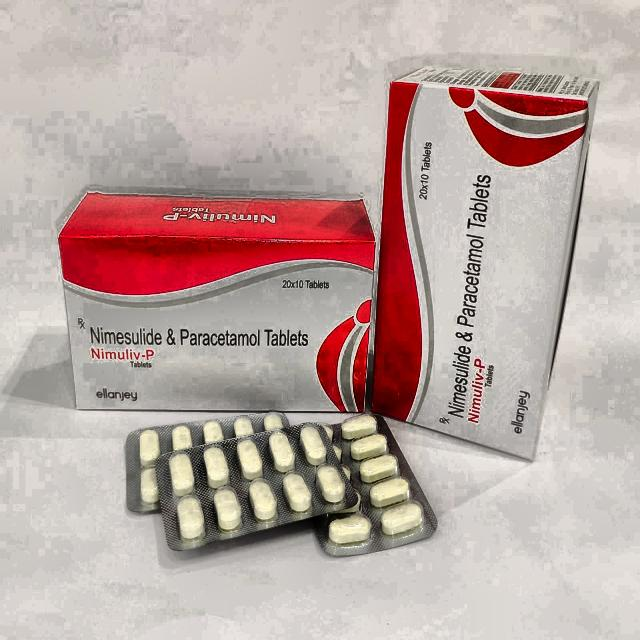Paracetamol: (79, 304, 320, 373), (449, 154, 502, 434)
